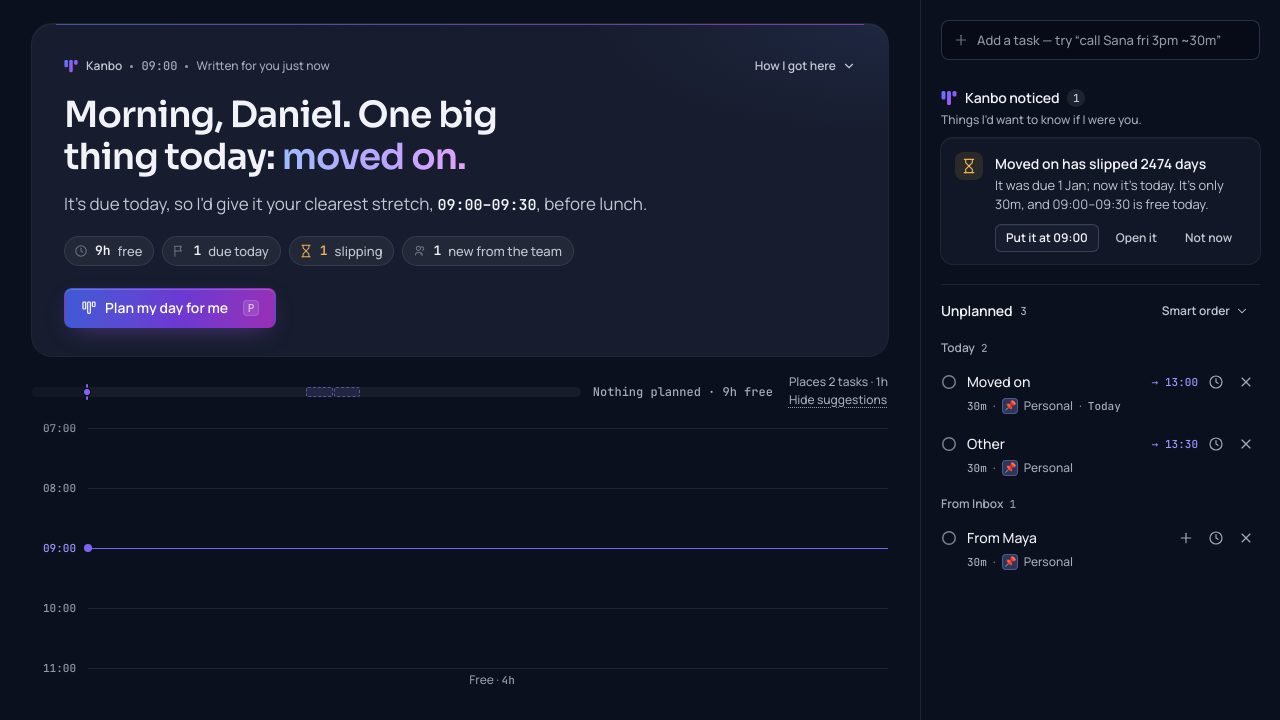
TodayView: the brief › slipping and new-from-the-team narrow the rail too
This screenshot has width=1280, height=720.
Click the button "1 slipping" at (342, 251), box [289, 236, 394, 266]
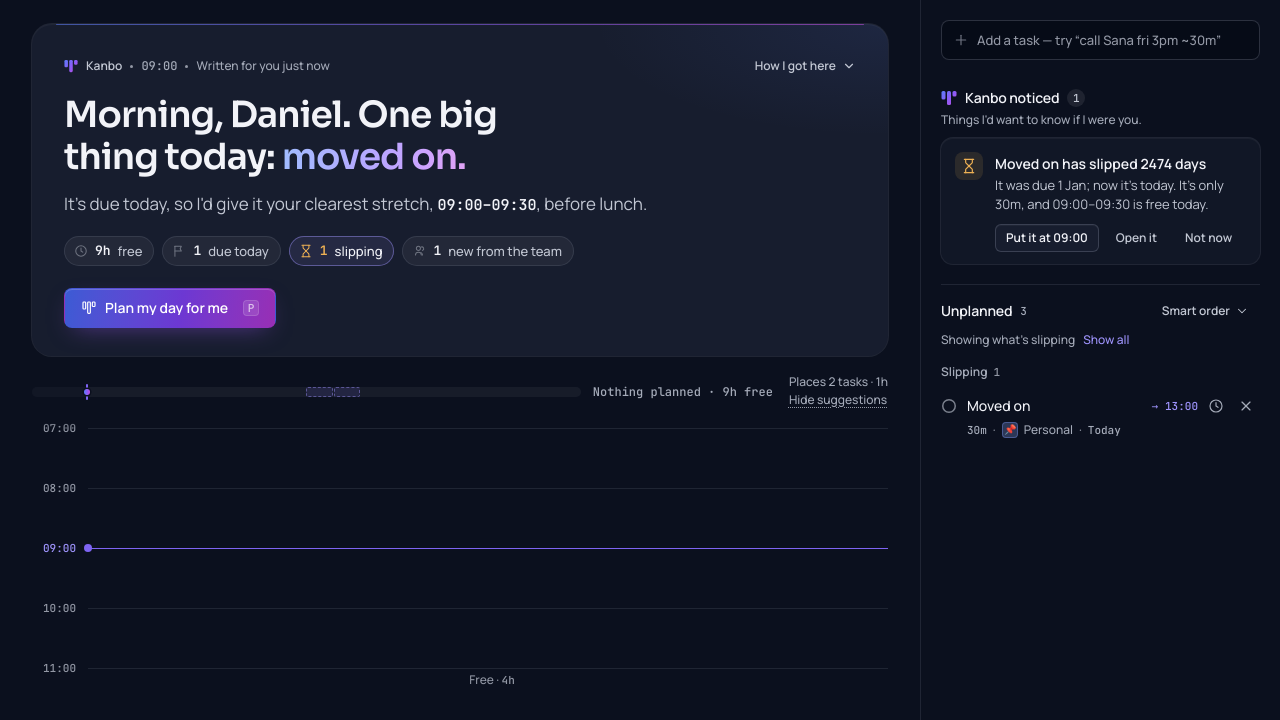
Expected: the text "Moved on" is shown, [967, 396, 1030, 415]
Expected: the text "Showing what's slipping" is shown, [941, 332, 1075, 348]
Click the button "1 new from the team" at (488, 251), box [402, 236, 574, 266]
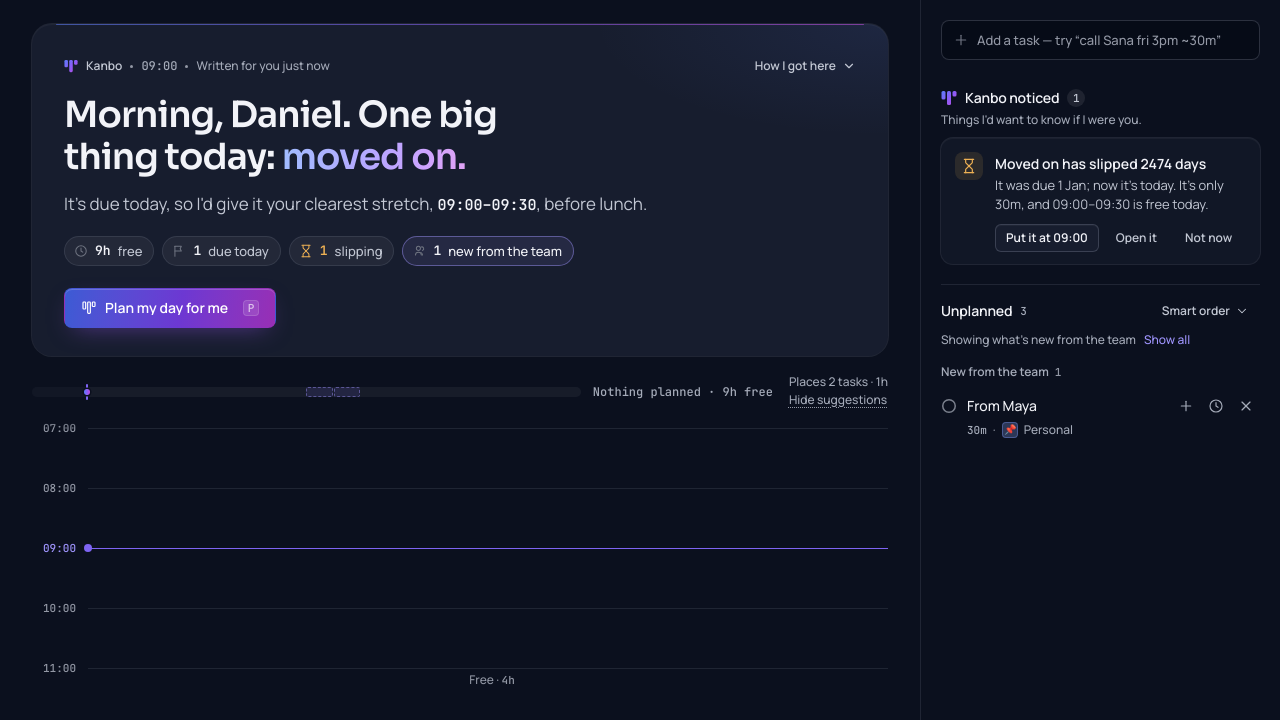
Expected: the text "From Maya" is shown, [967, 396, 1037, 415]
